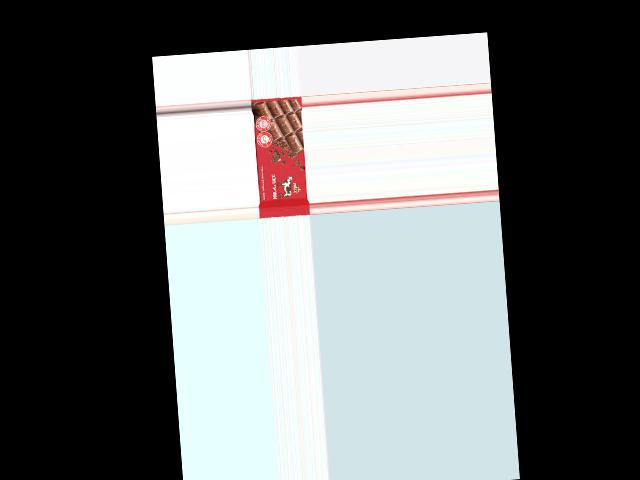chocolate: (250, 96, 309, 217)
